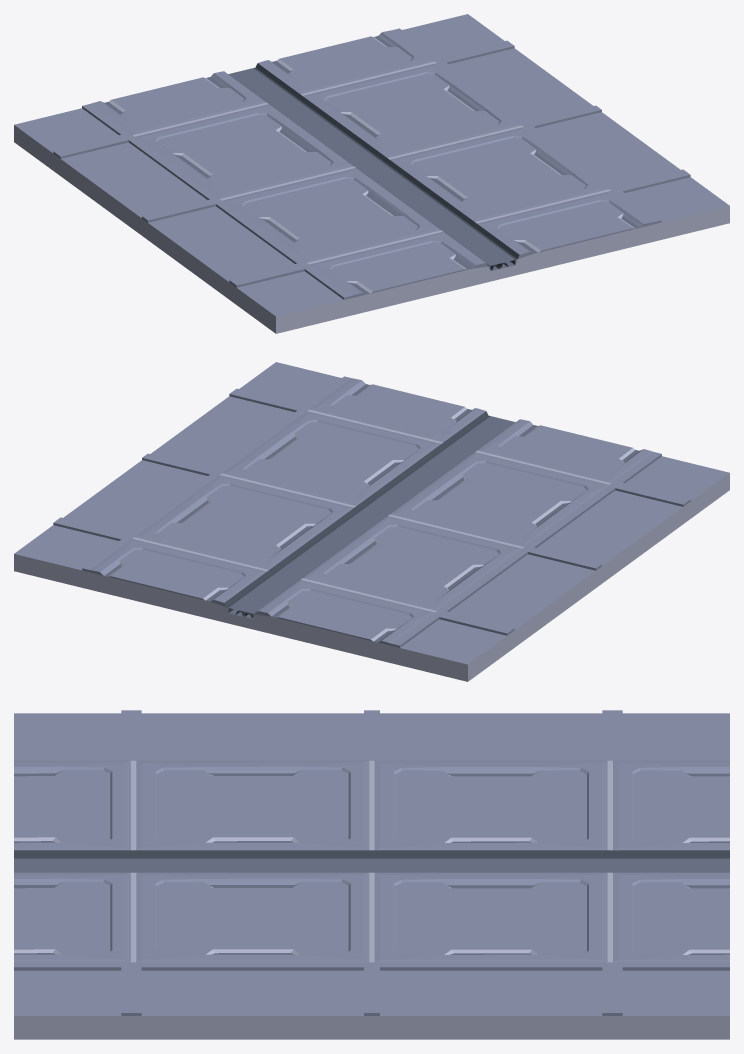
Rendered from Floor1.FBX.
The picture shows the model from 3 angles, top to bottom: view 1: azimuth 30°, elevation 25°; view 2: azimuth 150°, elevation 25°; view 3: azimuth 270°, elevation 25°; orthographic projection. The views are drawn at different scales.
Parts seen in each view (by area): view 1: Floor1; view 2: Floor1; view 3: Floor1.
Boxes of the visible parts, bbox=[...] form: Floor1: bbox=[14, 14, 729, 333]; Floor1: bbox=[14, 362, 729, 681]; Floor1: bbox=[14, 710, 729, 1039].
Size of the model in its own units: 39.5 by 1.68 by 39.5.
